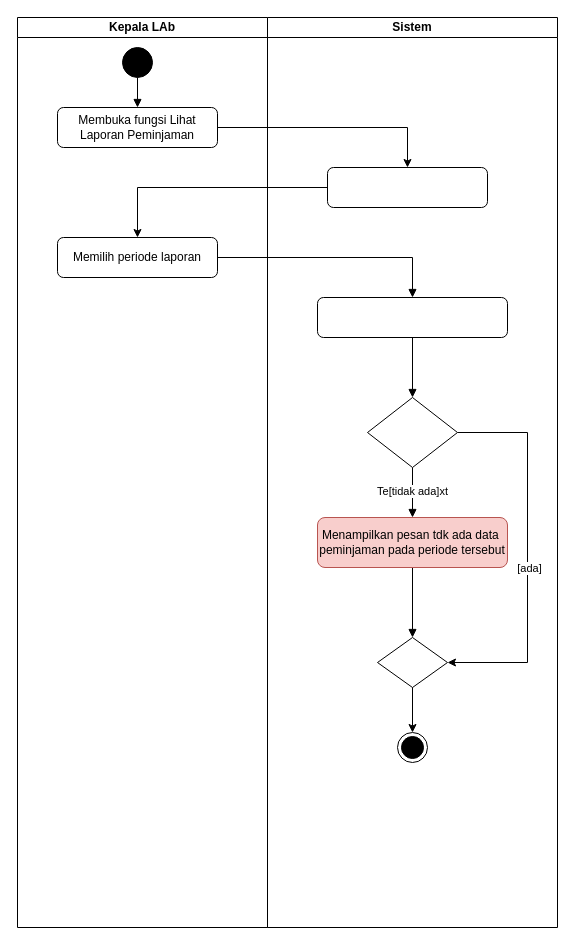
This 575x945 diagram has some shape labels left out. The centre of each missing label's shape, as x and y in pixels:
Ada data peminjaman?: pixel 412 432
Menampilkan daftar periode laporan: pixel 407 187
Menampilkan laporan peminjaman periode yang dipilih: pixel 412 317
